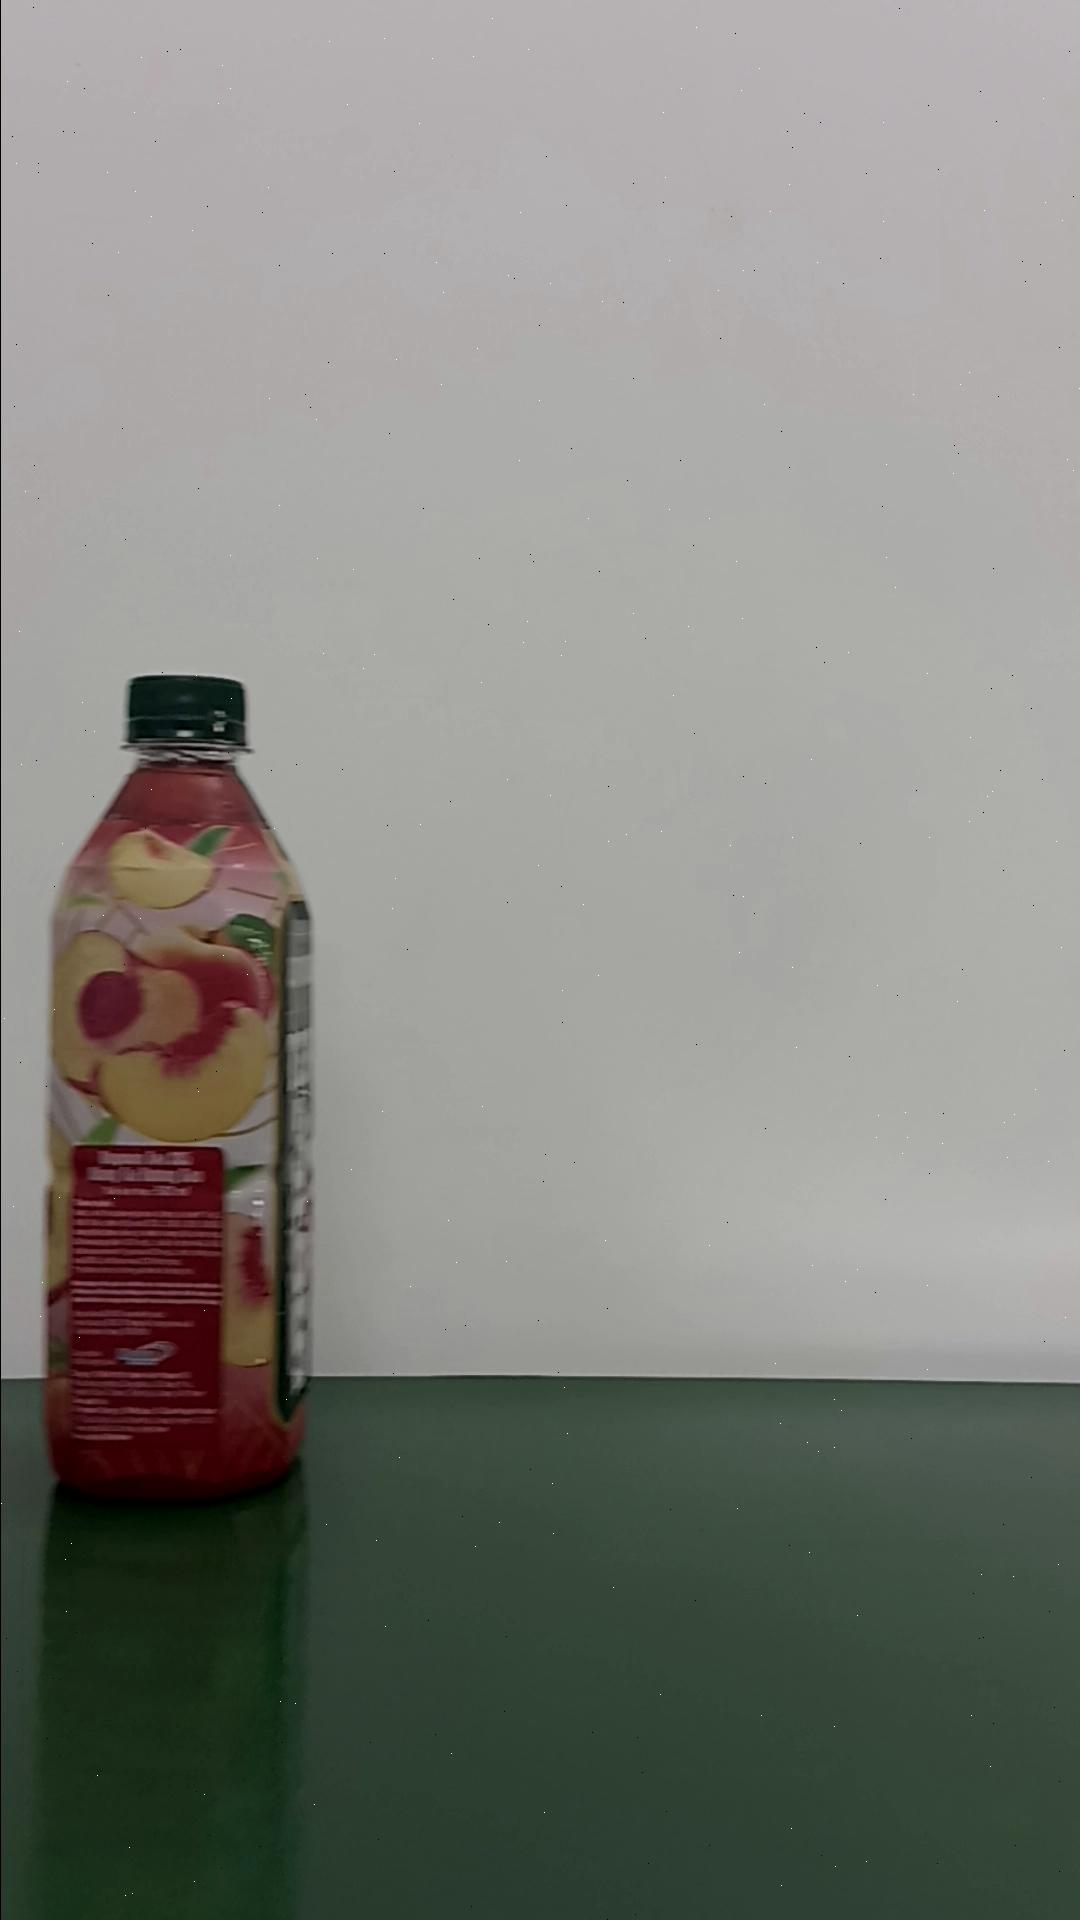khong loi: (41, 671, 318, 1502)
